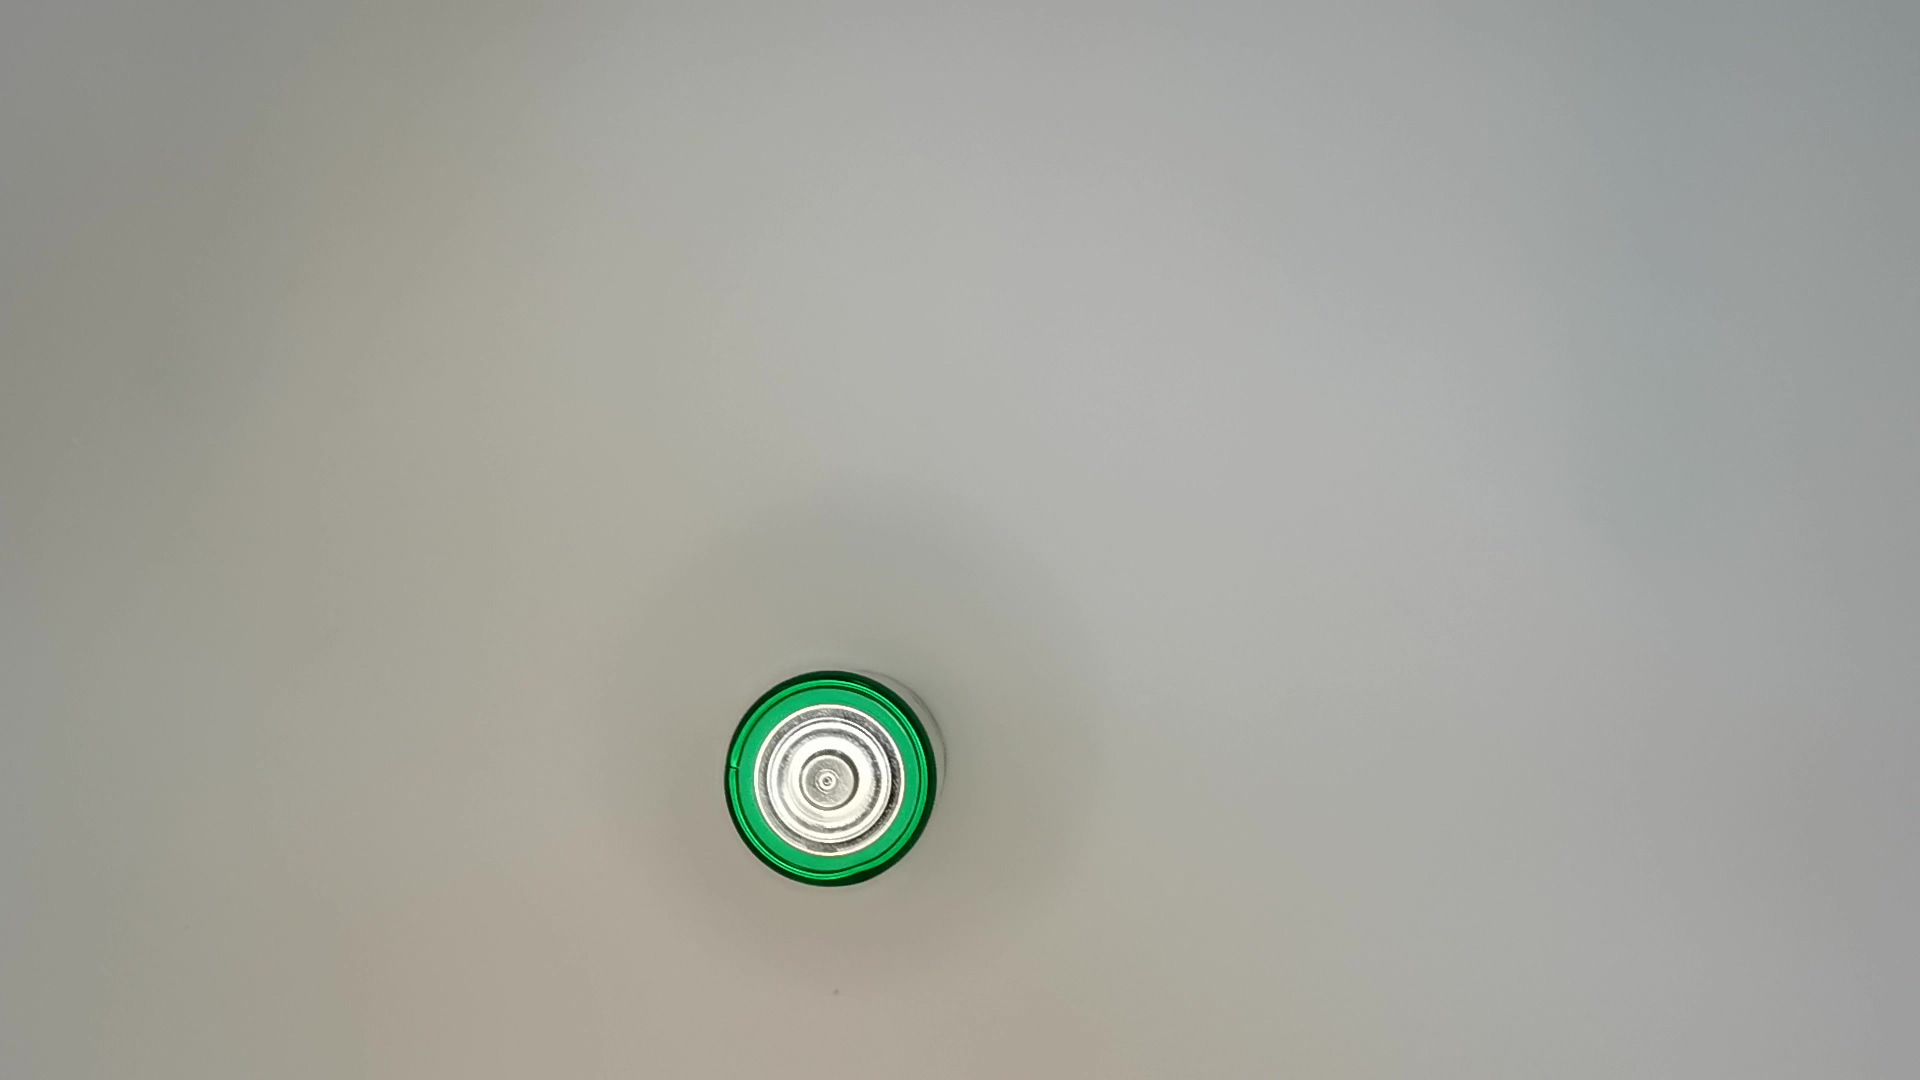battery: (719, 665, 951, 893)
